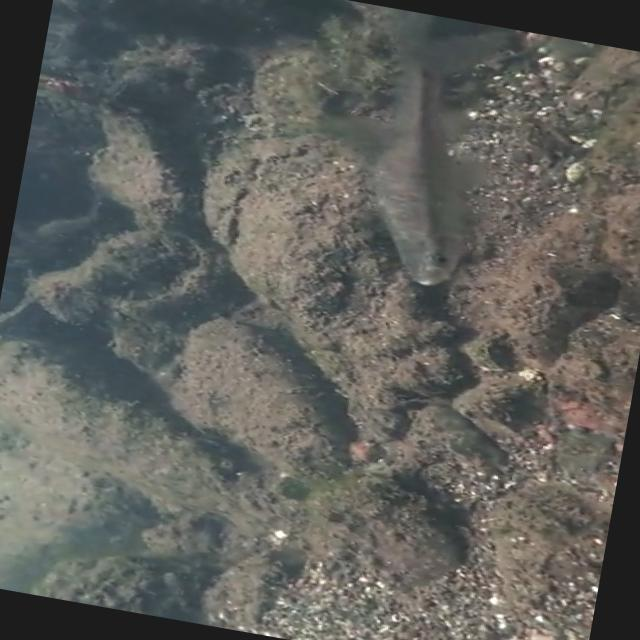Cakil Baligi: (332, 12, 524, 294)
